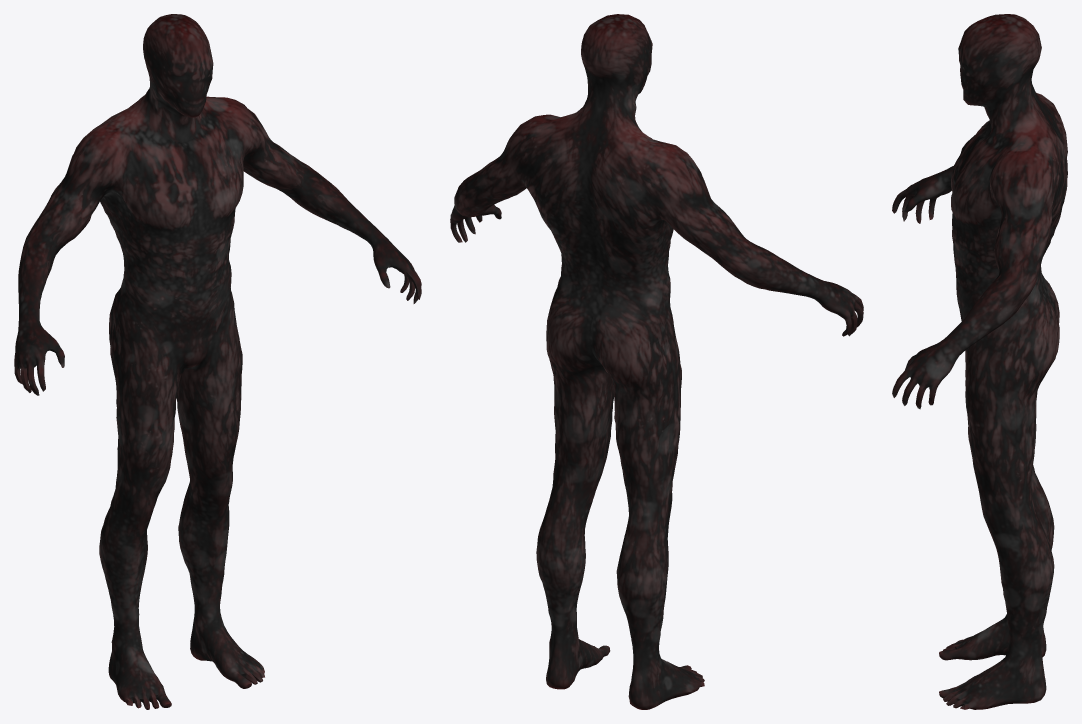
Rendered from blobb_man.glb.
The picture shows the model from 3 angles, left to right: view 1: azimuth 30°, elevation 25°; view 2: azimuth 150°, elevation 25°; view 3: azimuth 270°, elevation 25°; orthographic projection.
Visible parts, largest first — view 1: Object_2; view 2: Object_2; view 3: Object_2.
Boxes of the visible parts, x1,y1,x2,y2 form: Object_2: (14, 14, 421, 709); Object_2: (450, 14, 863, 709); Object_2: (892, 14, 1067, 709).
Bounding box in the file's own units: 115 × 182 × 43.92.
1 material, 1 textured.
